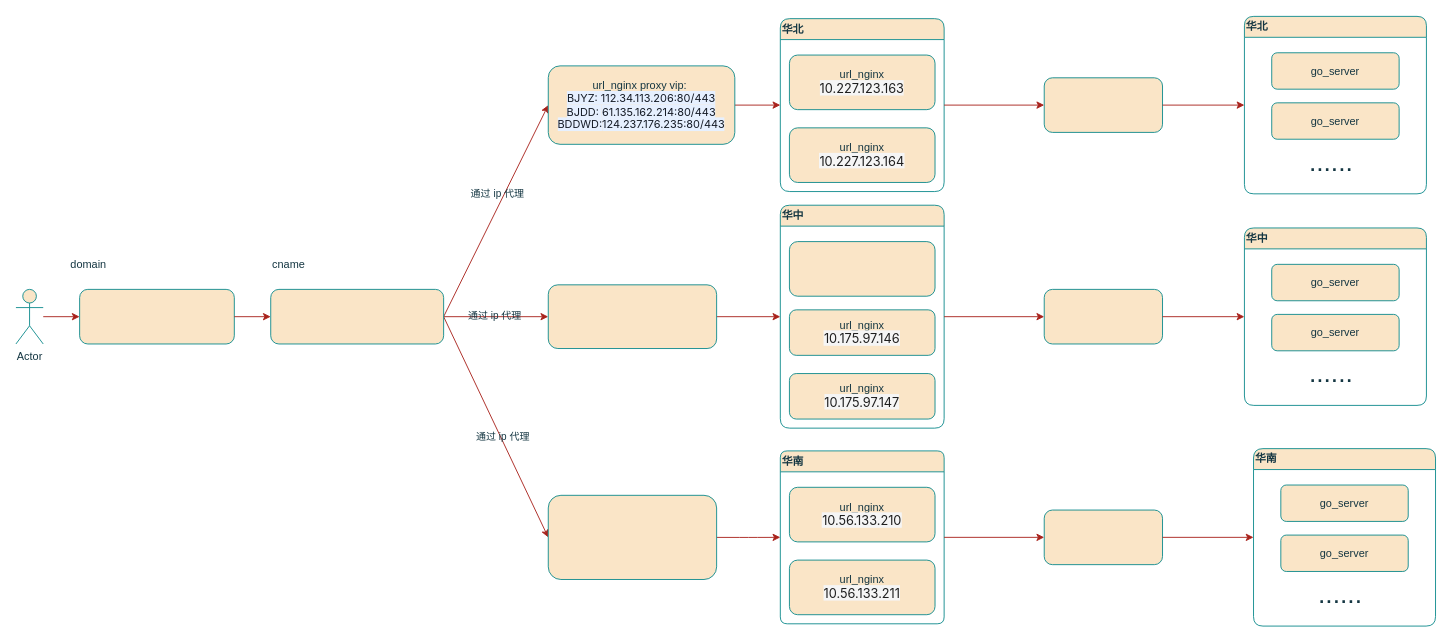
The diagram is 1451 pixels wide and 642 high, and some of its shapes have lost their labels. The shapes that lost their labels are listed below. From the top down, each one's centre as x and y in pixels, then its label:
At (1103,104): "go_server proxy vip: 4.4.4.4".
At (862,268): "url_nginx 10.175.97.145".
At (156,316): "lookup.api.bsb.baidu.com".
At (357,316): "lookupapi.n.shifen.com".
At (632,316): "url_nginx proxy vip: NJJS: 180.101.50.163:80/443".
At (1103,316): "go_server proxy vip: 5.5.5.5".
At (632,536): "url_nginx proxy vip: GZNJ: 157.148.69.156:80/443 GZXG: 183.240.99.44:80/443".
At (1103,537): "go_server proxy vip: 6.6.6.6".
